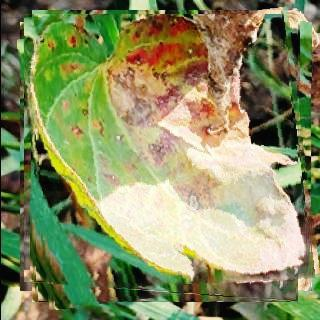blight: (25, 16, 305, 297)
curl: (23, 14, 312, 303)
